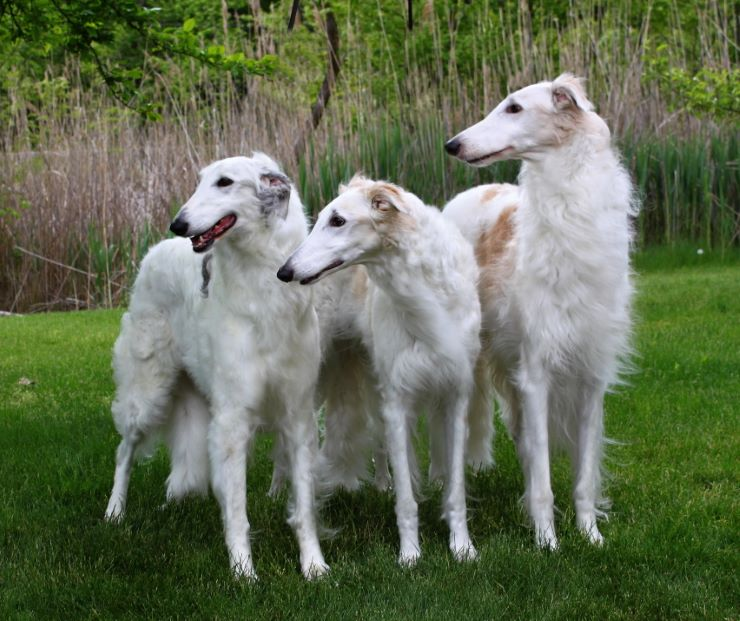borzoi: (98, 149, 323, 582), (438, 73, 641, 549), (274, 118, 485, 572)
